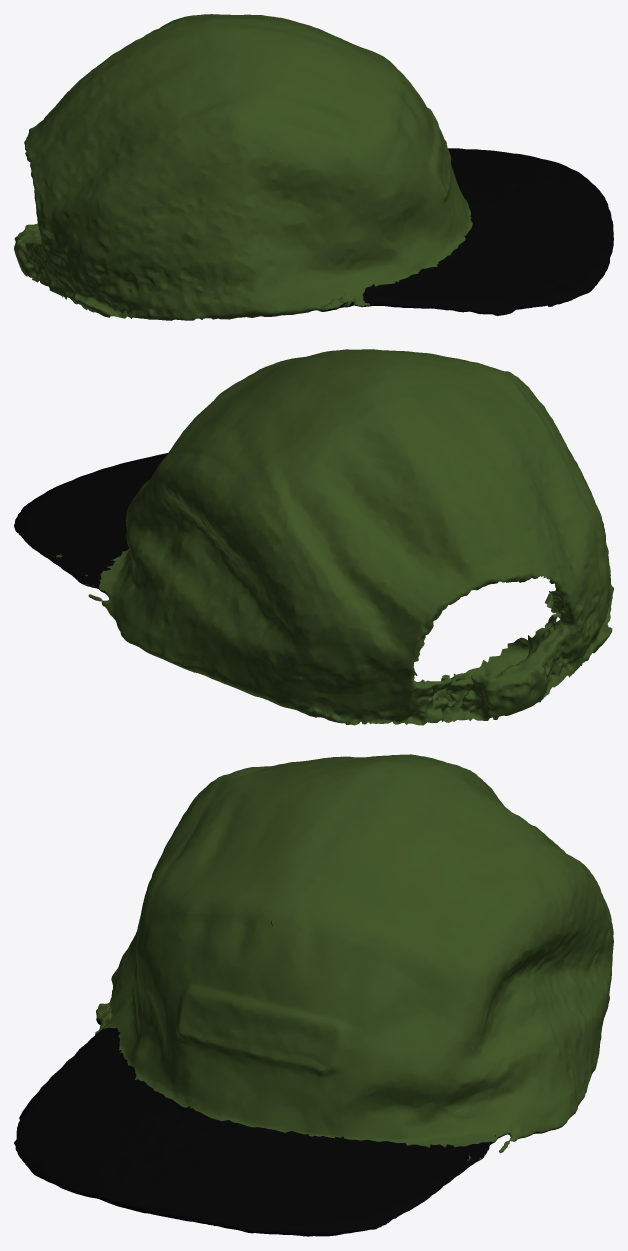
File: FIVEPANEL_FINALVERSION.glb
3 views of the same model, one above another, from view 1: azimuth 30°, elevation 25°; view 2: azimuth 150°, elevation 25°; view 3: azimuth 270°, elevation 25° (orthographic). The views are drawn at different scales.
Parts seen in each view (by area): view 1: Model; view 2: Model; view 3: Model.
Boxes of the visible parts, bbox=[...] form: Model: bbox=[14, 14, 613, 320]; Model: bbox=[14, 349, 613, 725]; Model: bbox=[14, 754, 613, 1236].
Bounding box in the file's own units: 0.3717 × 0.1639 × 0.3033.
